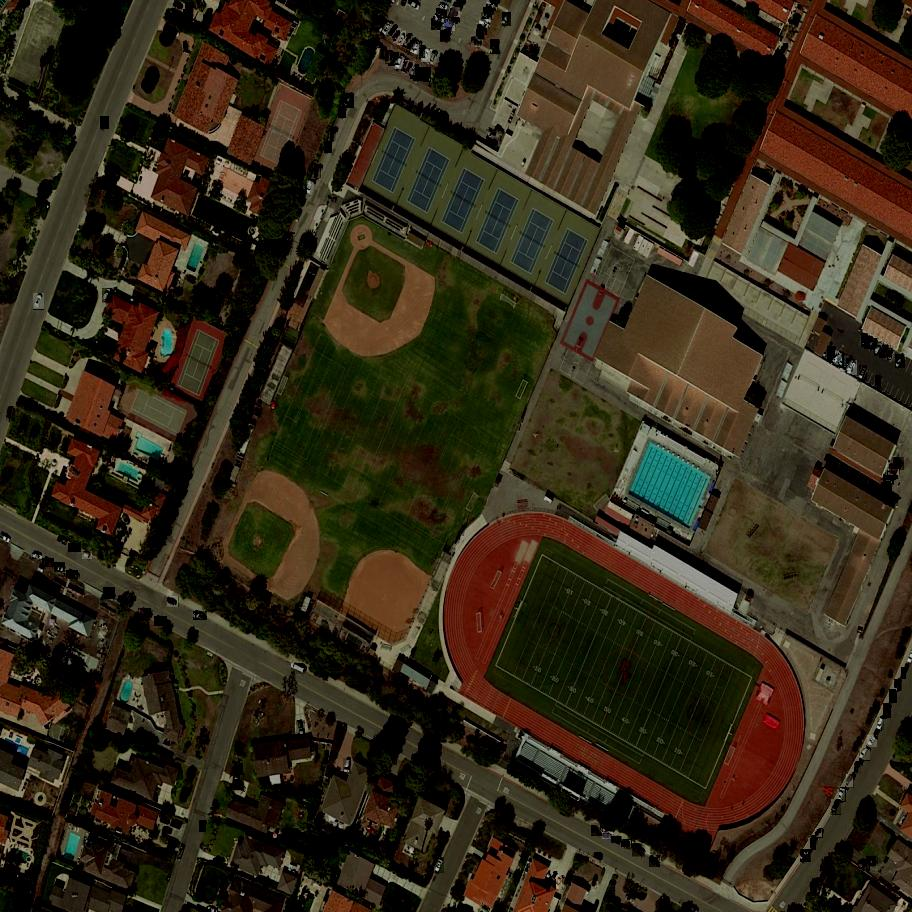small-vehicle: (840, 355, 855, 372), (406, 38, 421, 53), (33, 293, 45, 311), (381, 21, 395, 36), (290, 664, 307, 676), (421, 49, 435, 63), (342, 94, 356, 108), (632, 844, 646, 858), (402, 33, 415, 48), (831, 350, 844, 365), (102, 288, 114, 304), (405, 61, 417, 76), (56, 535, 71, 547), (831, 800, 843, 815), (847, 360, 858, 376), (296, 720, 306, 737), (343, 758, 353, 775), (388, 53, 401, 66), (397, 31, 409, 45), (203, 8, 215, 22), (590, 824, 604, 836), (874, 342, 886, 356), (892, 458, 906, 470), (860, 748, 872, 762), (414, 67, 425, 82), (490, 39, 501, 54), (153, 616, 168, 627), (895, 354, 906, 369), (435, 858, 445, 874), (444, 19, 456, 32), (233, 780, 246, 792), (166, 596, 179, 608), (649, 855, 662, 867), (103, 588, 116, 600), (800, 850, 813, 862), (878, 346, 891, 358), (502, 12, 513, 26), (864, 336, 875, 350), (410, 64, 420, 79), (423, 67, 433, 82), (866, 856, 878, 868), (447, 66, 459, 78), (439, 31, 451, 43), (828, 346, 837, 362), (883, 703, 892, 719), (867, 735, 879, 747), (388, 25, 399, 38), (470, 36, 483, 47), (139, 609, 152, 620), (54, 562, 67, 573), (880, 482, 893, 493), (888, 464, 901, 475), (393, 29, 403, 43), (395, 56, 405, 70), (857, 861, 871, 871), (6, 407, 16, 421), (886, 348, 896, 362), (436, 8, 448, 19), (185, 3, 196, 15), (183, 9, 194, 21), (476, 24, 488, 35), (592, 852, 604, 863), (486, 129, 497, 141), (430, 19, 443, 29), (550, 871, 560, 884), (285, 232, 295, 245), (68, 544, 81, 554), (66, 570, 79, 580), (889, 690, 899, 703), (846, 774, 856, 787), (402, 57, 410, 73), (307, 180, 315, 196), (481, 12, 493, 22), (450, 7, 462, 17), (859, 365, 867, 380), (883, 476, 895, 486), (839, 787, 847, 802), (324, 141, 333, 154), (100, 117, 109, 130), (199, 820, 208, 833), (886, 471, 899, 480), (877, 718, 886, 731), (193, 612, 207, 620), (487, 1, 497, 12), (479, 19, 490, 29), (475, 30, 486, 40), (213, 859, 225, 868), (871, 339, 880, 351), (379, 47, 387, 60), (433, 16, 446, 24), (314, 165, 322, 178), (183, 41, 191, 54), (894, 679, 902, 692), (82, 552, 93, 561), (430, 51, 437, 65), (861, 333, 868, 347), (339, 107, 347, 119), (330, 127, 337, 140), (855, 761, 862, 774), (839, 353, 845, 368), (449, 15, 460, 23), (621, 840, 632, 848), (438, 4, 450, 11), (602, 833, 614, 840), (42, 559, 54, 566), (816, 829, 825, 838), (420, 45, 426, 58), (556, 876, 562, 889), (611, 836, 622, 843), (484, 8, 494, 15), (386, 50, 391, 63), (32, 553, 42, 559), (442, 57, 446, 71), (415, 41, 419, 55), (811, 836, 815, 850), (876, 376, 880, 388), (443, 28, 452, 33), (902, 668, 906, 679)
